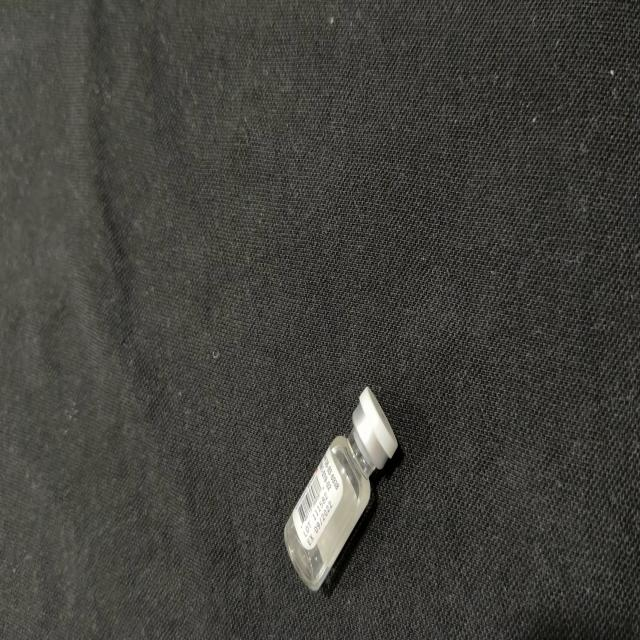fentanl_citrat: (286, 389, 396, 589)
